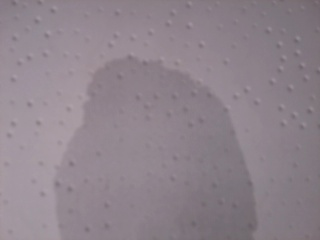Water_detected: (82, 90, 209, 240)
